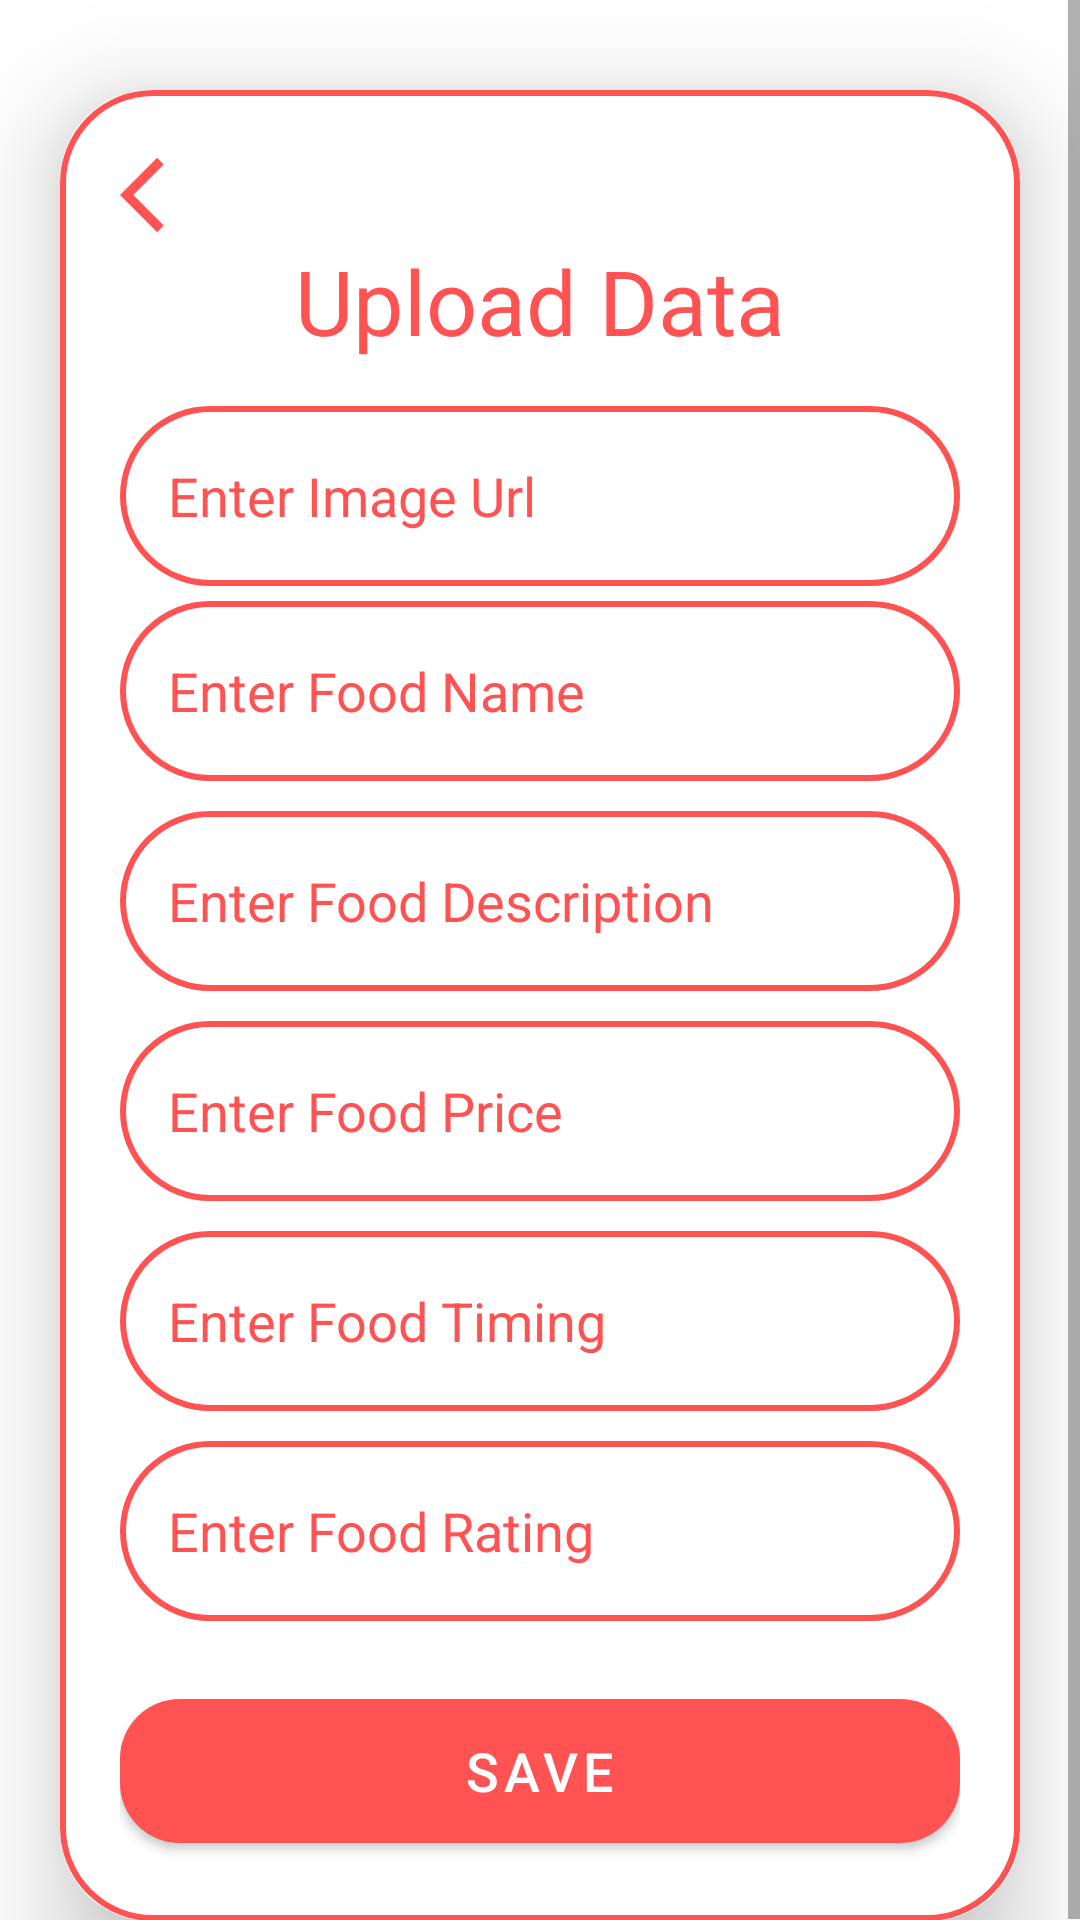

Point at icon controls on the screen. Image size 1080px×1920px, points as point (x, y).
back button: point (142, 195)
